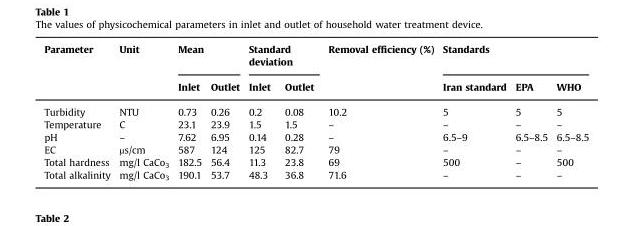table: (43, 42, 588, 180)
table column: (320, 42, 437, 180), (437, 42, 510, 180), (43, 42, 114, 180), (114, 42, 172, 180), (276, 42, 320, 180), (510, 42, 551, 180), (205, 42, 243, 180), (551, 42, 588, 180), (172, 42, 205, 180), (243, 42, 276, 180)
table column header: (43, 42, 588, 98)
table row: (43, 42, 588, 73), (43, 73, 588, 98), (43, 98, 588, 117), (43, 117, 588, 130), (43, 142, 588, 155), (43, 155, 588, 168), (43, 130, 588, 142), (43, 168, 588, 180)
table spanning cell: (320, 42, 437, 98), (437, 42, 588, 73), (43, 42, 114, 98), (114, 42, 172, 98), (243, 42, 320, 73), (172, 42, 243, 73)
